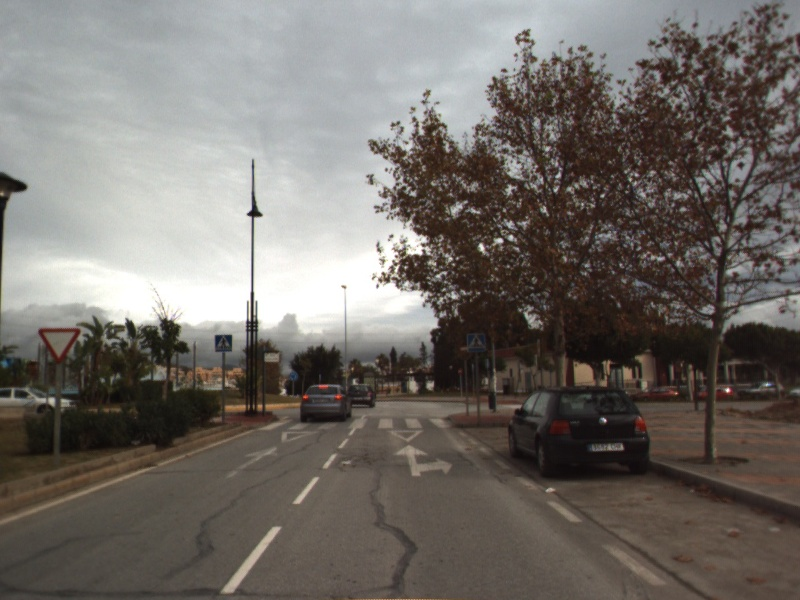STRAIGHT: (221, 444, 280, 481)
STRAIGHT_RIGHT: (391, 443, 455, 478)
